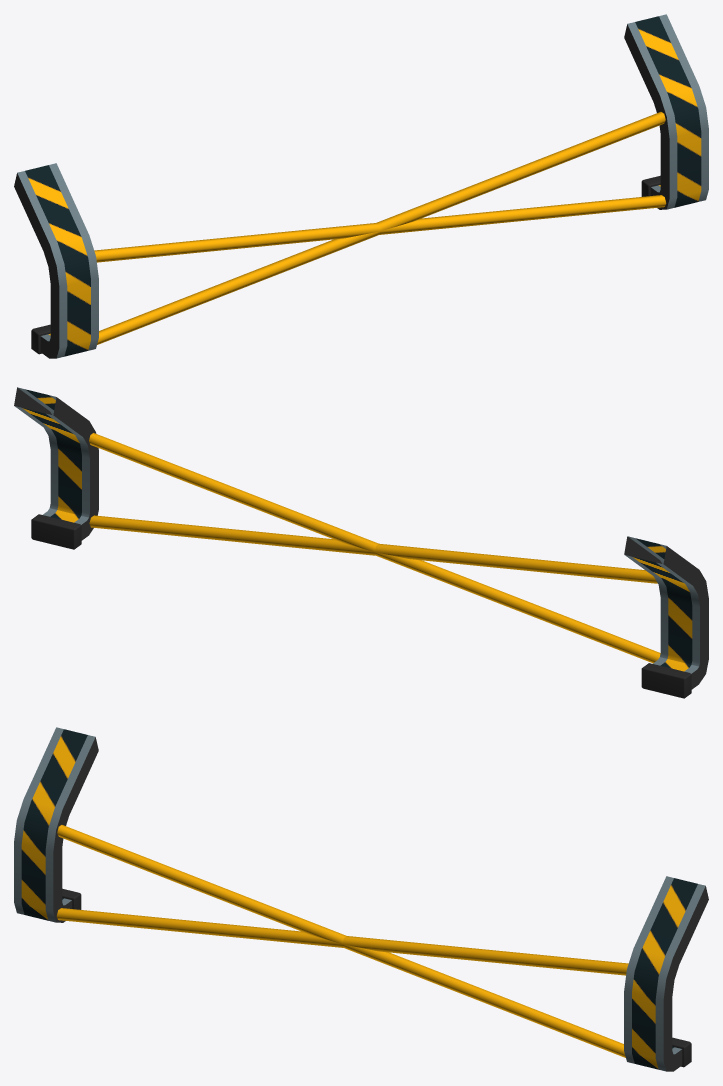
The model's file is Cargo_drone_005_grab_003.fbx.
The picture shows the model from 3 angles, top to bottom: view 1: azimuth 30°, elevation 25°; view 2: azimuth 150°, elevation 25°; view 3: azimuth 330°, elevation 25°; orthographic projection.
Visible parts, largest first — view 1: Cargo_drone_005_grab_003; view 2: Cargo_drone_005_grab_003; view 3: Cargo_drone_005_grab_003.
Boxes of the visible parts, x1,y1,x2,y2 form: Cargo_drone_005_grab_003: [14, 14, 708, 358]; Cargo_drone_005_grab_003: [14, 387, 708, 698]; Cargo_drone_005_grab_003: [14, 727, 708, 1071].
Size of the model in its own units: 341 by 41.02 by 82.04.
